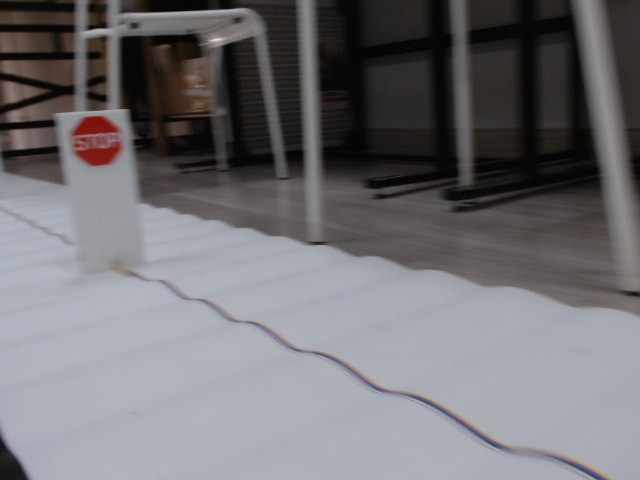Stop: (67, 116, 124, 166)
